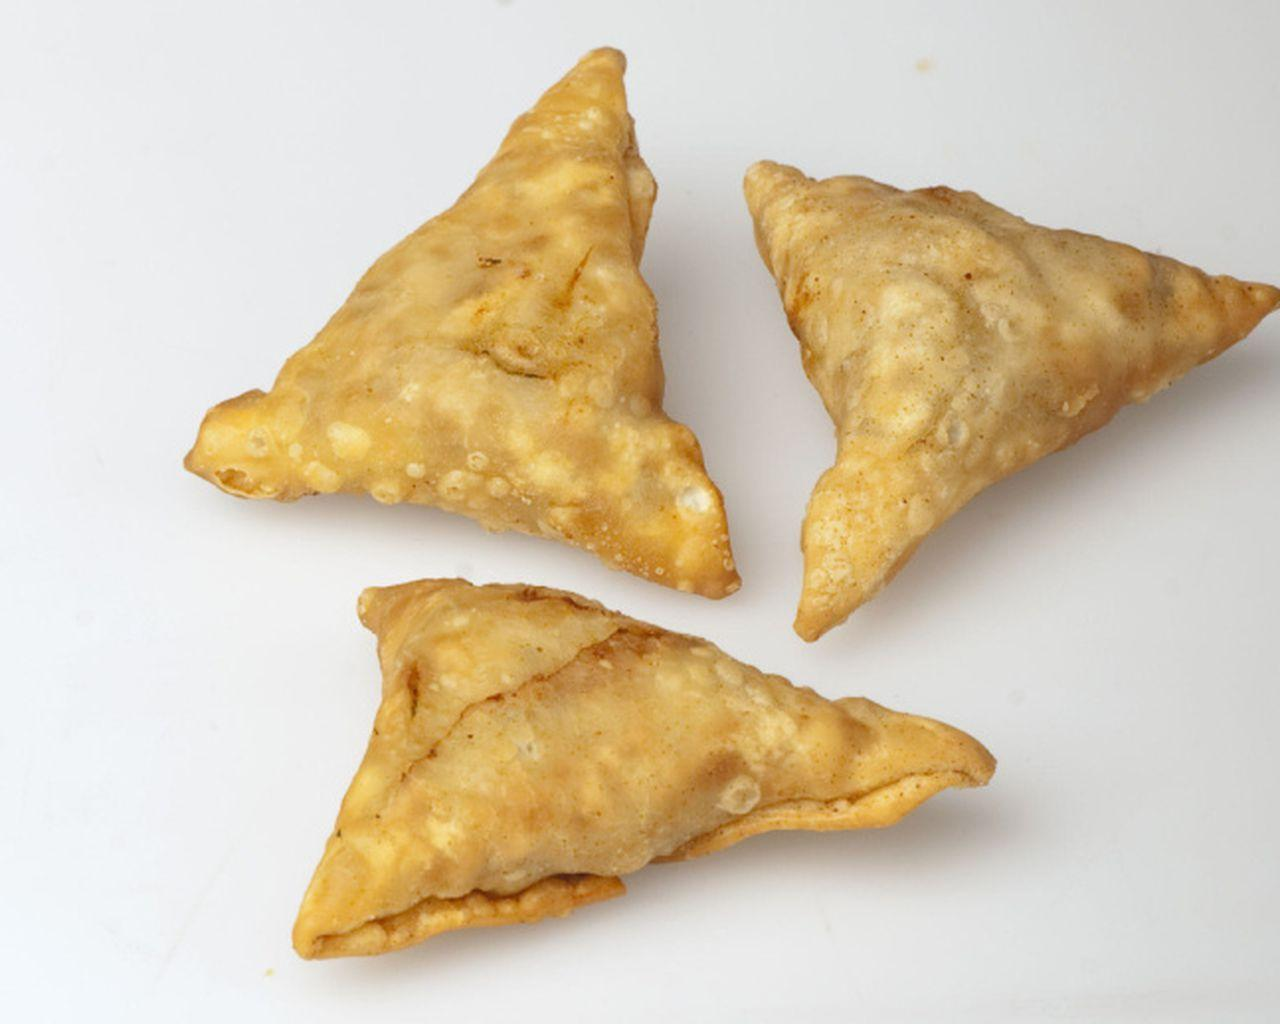samosa: (185, 50, 738, 598), (293, 580, 995, 957), (745, 165, 1280, 639)
